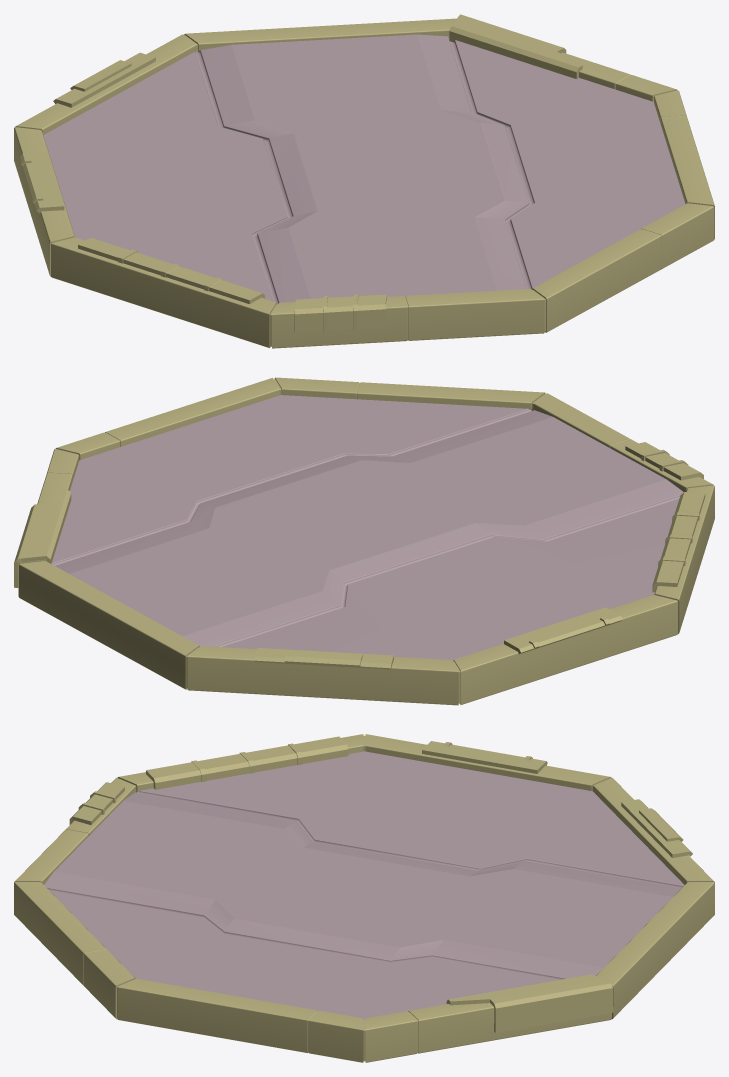
The model's file is SP_BaseHexagon.fbx.
3 views of the same model, one above another, from view 1: azimuth 30°, elevation 25°; view 2: azimuth 150°, elevation 25°; view 3: azimuth 270°, elevation 25° (orthographic). The views are drawn at different scales.
Parts seen in each view (by area): view 1: SP_BaseHexagon; view 2: SP_BaseHexagon; view 3: SP_BaseHexagon.
Part boxes in pixels (bbox=[...]): SP_BaseHexagon: bbox=[14, 14, 714, 348]; SP_BaseHexagon: bbox=[14, 377, 714, 705]; SP_BaseHexagon: bbox=[14, 734, 714, 1062].
Bounding box in the file's own units: 9.95 × 0.6322 × 9.95.
